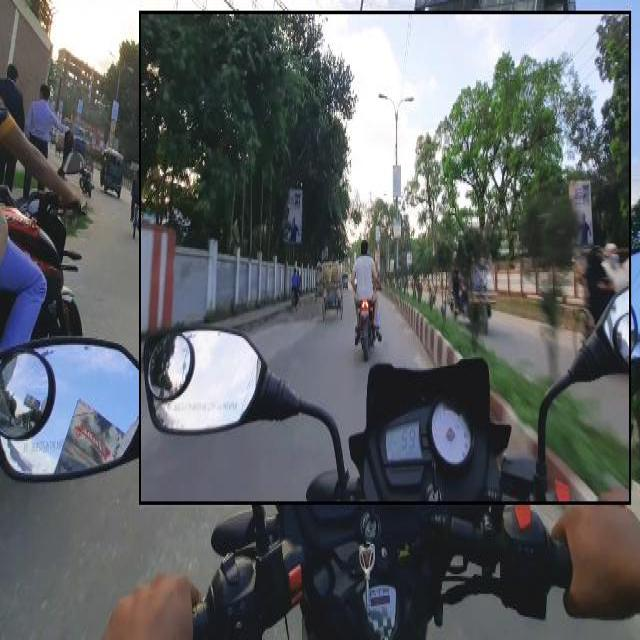auto rickshaw: (448, 252, 498, 332), (100, 146, 122, 199), (342, 273, 348, 289)
bicycle: (128, 170, 138, 234), (290, 286, 300, 311)
motorbike: (351, 237, 382, 360), (78, 164, 94, 194)
rickshaw: (322, 262, 342, 318), (314, 264, 322, 301)
